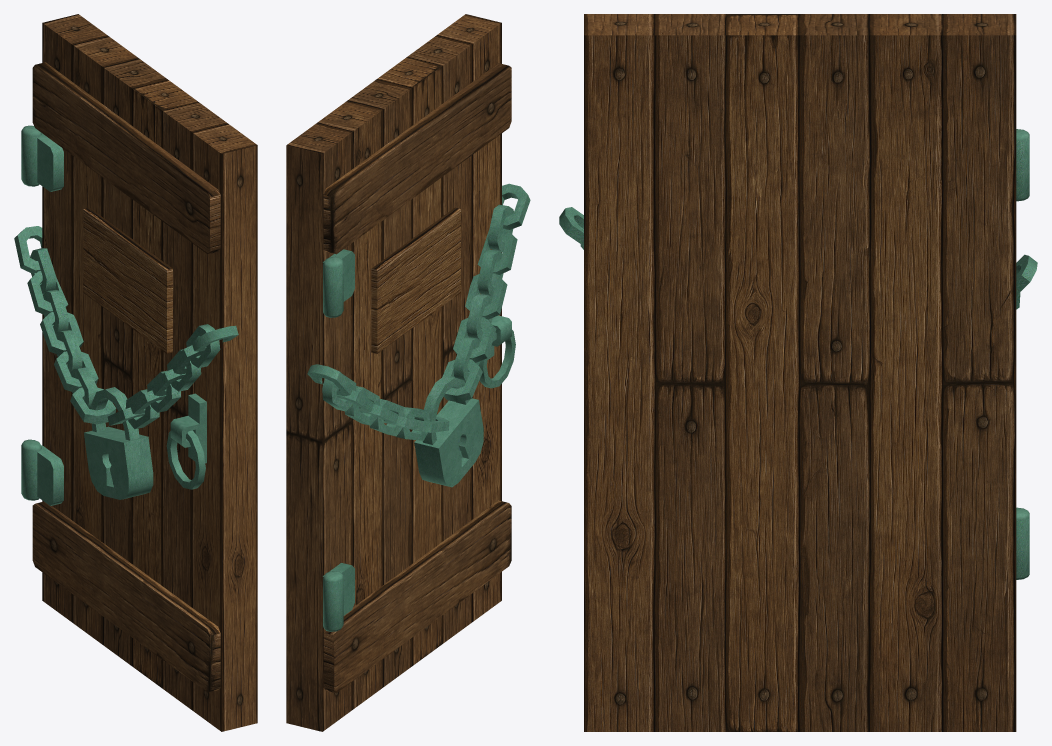
The model's file is Door_Break_Drop.fbx.
3 views of the same model, side by side, from view 1: azimuth 30°, elevation 25°; view 2: azimuth 150°, elevation 25°; view 3: azimuth 270°, elevation 25° (orthographic). The views are drawn at different scales.
Parts seen in each view (by area): view 1: Door_Break_Drop.014, Door_Break_Drop.004, Door_Break_Drop.005, Door_Break_Drop.008, Door_Break_Drop.011, Door_Break_Drop.000, Door_Break_Drop.006, Door_Break_Drop.003, Door_Break_Drop.007, Door_Break_Drop.013, Door_Break_Drop.012, Door_Break_Drop.001 (+3 smaller); view 2: Door_Break_Drop.007, Door_Break_Drop.006, Door_Break_Drop.005, Door_Break_Drop.004, Door_Break_Drop.008, Door_Break_Drop.014, Door_Break_Drop.011, Door_Break_Drop.000, Door_Break_Drop.003, Door_Break_Drop.002, Door_Break_Drop.010, Door_Break_Drop.012 (+3 smaller); view 3: Door_Break_Drop.008, Door_Break_Drop.011, Door_Break_Drop.014, Door_Break_Drop.006, Door_Break_Drop.009, Door_Break_Drop.012, Door_Break_Drop.007, Door_Break_Drop.010, Door_Break_Drop.013.
Boxes of the visible parts, x1=… form: Door_Break_Drop.014: x1=166, y1=123, x2=257, y2=731; Door_Break_Drop.004: x1=32, y1=501, x2=220, y2=692; Door_Break_Drop.005: x1=32, y1=62, x2=220, y2=254; Door_Break_Drop.008: x1=72, y1=36, x2=137, y2=643; Door_Break_Drop.011: x1=132, y1=79, x2=197, y2=687; Door_Break_Drop.000: x1=83, y1=207, x2=172, y2=353; Door_Break_Drop.006: x1=21, y1=14, x2=107, y2=313; Door_Break_Drop.003: x1=70, y1=367, x2=153, y2=499; Door_Break_Drop.007: x1=21, y1=314, x2=72, y2=622; Door_Break_Drop.013: x1=162, y1=406, x2=191, y2=709; Door_Break_Drop.012: x1=162, y1=101, x2=227, y2=416; Door_Break_Drop.001: x1=14, y1=226, x2=98, y2=392; Door_Break_Drop.007: x1=286, y1=421, x2=354, y2=731; Door_Break_Drop.006: x1=286, y1=123, x2=354, y2=442; Door_Break_Drop.005: x1=323, y1=63, x2=511, y2=254; Door_Break_Drop.004: x1=323, y1=500, x2=511, y2=692; Door_Break_Drop.008: x1=316, y1=101, x2=382, y2=709; Door_Break_Drop.014: x1=436, y1=14, x2=515, y2=622; Door_Break_Drop.011: x1=376, y1=58, x2=441, y2=665; Door_Break_Drop.000: x1=371, y1=207, x2=460, y2=353; Door_Break_Drop.003: x1=396, y1=359, x2=483, y2=487; Door_Break_Drop.002: x1=453, y1=183, x2=530, y2=383; Door_Break_Drop.010: x1=382, y1=377, x2=412, y2=687; Door_Break_Drop.012: x1=406, y1=36, x2=471, y2=355; Door_Break_Drop.008: x1=872, y1=14, x2=944, y2=731; Door_Break_Drop.011: x1=728, y1=14, x2=799, y2=731; Door_Break_Drop.014: x1=584, y1=14, x2=655, y2=731; Door_Break_Drop.006: x1=944, y1=14, x2=1029, y2=383; Door_Break_Drop.009: x1=800, y1=14, x2=871, y2=383; Door_Break_Drop.012: x1=656, y1=14, x2=727, y2=383; Door_Break_Drop.007: x1=944, y1=383, x2=1029, y2=731; Door_Break_Drop.010: x1=800, y1=383, x2=871, y2=731; Door_Break_Drop.013: x1=656, y1=383, x2=727, y2=731.
Size of the model in its own units: 26.69 by 188 by 117.
